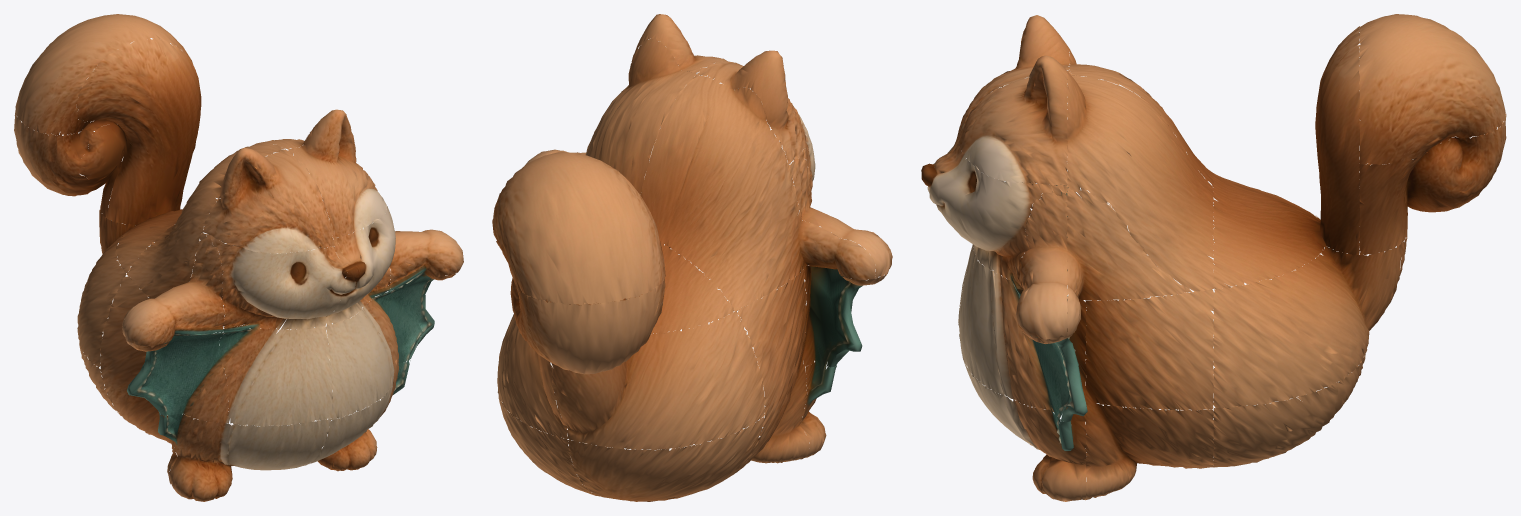
File: pip-prepolish.glb
The picture shows the model from 3 angles, left to right: view 1: azimuth 30°, elevation 25°; view 2: azimuth 150°, elevation 25°; view 3: azimuth 270°, elevation 25°; orthographic projection. The views are drawn at different scales.
Parts seen in each view (by area): view 1: geometry_0; view 2: geometry_0; view 3: geometry_0.
Part boxes in pixels (bbox=[...]): geometry_0: bbox=[14, 14, 463, 501]; geometry_0: bbox=[492, 14, 892, 501]; geometry_0: bbox=[921, 14, 1506, 501].
Size of the model in its own units: 0.9502 by 1 by 1.24.
1 material, 1 textured.
